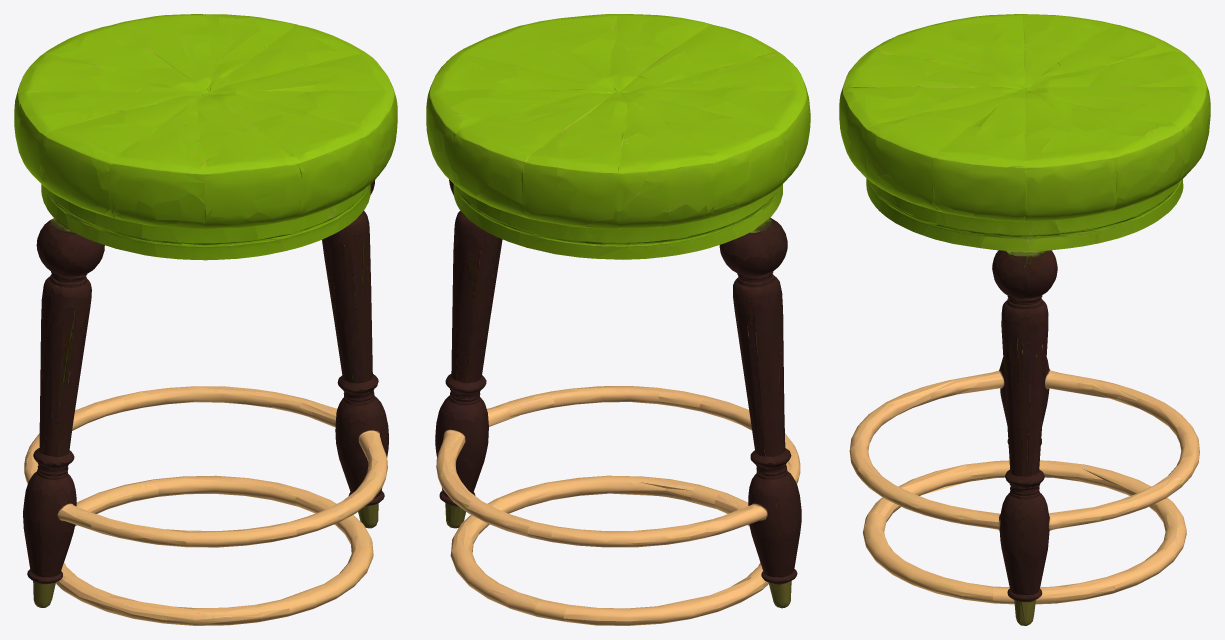
File: snakestool.glb
The picture shows the model from 3 angles, left to right: view 1: azimuth 30°, elevation 25°; view 2: azimuth 150°, elevation 25°; view 3: azimuth 270°, elevation 25°; orthographic projection. The views are drawn at different scales.
Size of the model in its own units: 1.5 by 1.9 by 1.39.
1 material, 1 textured.
